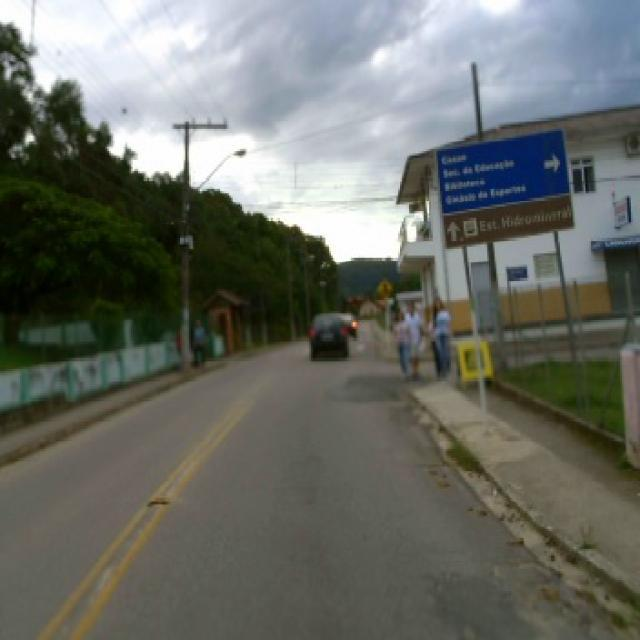Poth-hole: (487, 553, 553, 587), (145, 494, 171, 504)
